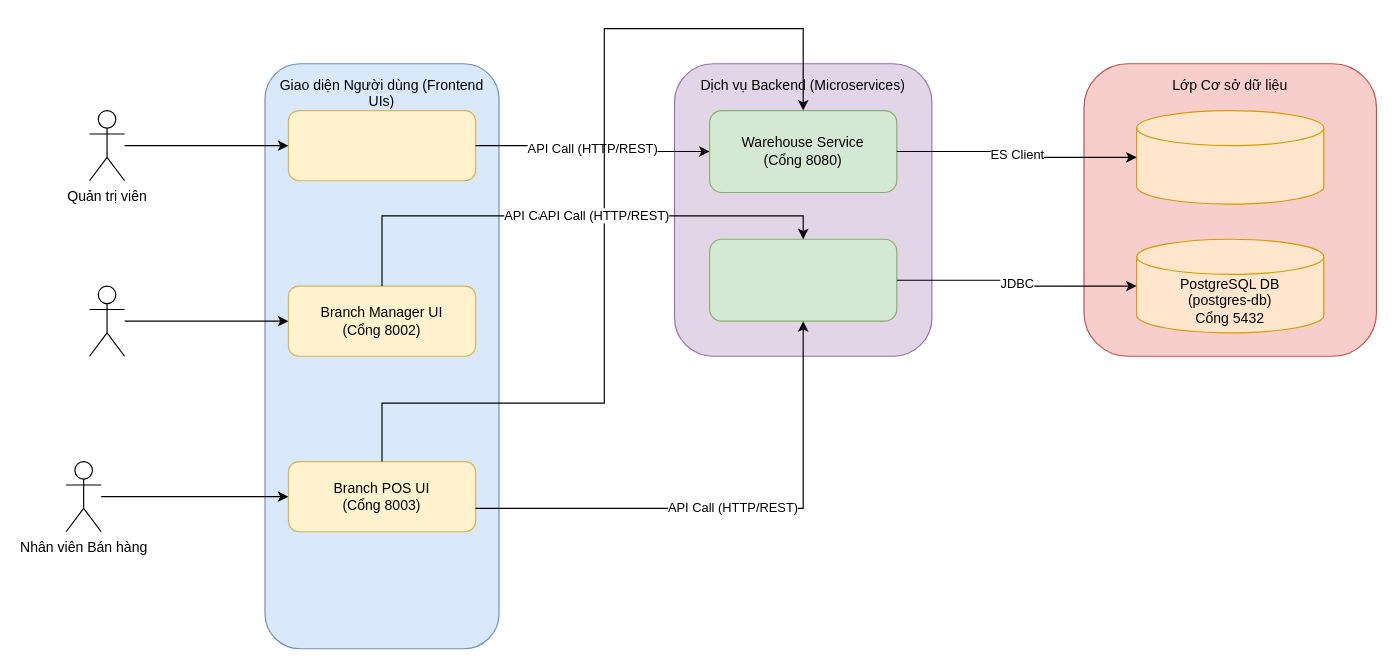
Some shapes in this 1397 by 669 pixel diagram are drawn without their labels. Each missing label, with the centre of its shape:
"Admin UI (Cổng 8000)" goes at (381,145).
"Branch Service (Cổng 8081)" goes at (802,279).
"Elasticsearch Cluster (es01, es02, es03) Cổng 9200" goes at (1229,156).
"Người Quản lý Chi nhánh" goes at (106,320).
